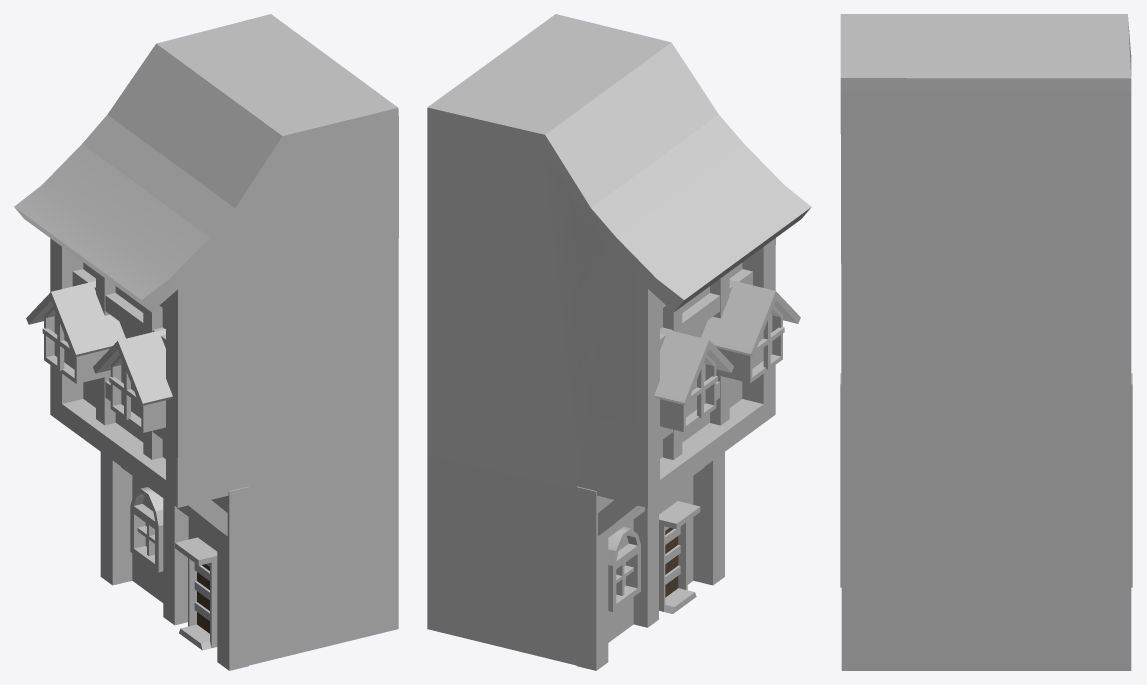
The model's file is townhouse2_combined.fbx.
The picture shows the model from 3 angles, left to right: view 1: azimuth 30°, elevation 25°; view 2: azimuth 150°, elevation 25°; view 3: azimuth 270°, elevation 25°; orthographic projection. The views are drawn at different scales.
Visible parts, largest first — view 1: standardHouse2; view 2: standardHouse2; view 3: standardHouse2.
Boxes of the visible parts, x1,y1,x2,y2 form: standardHouse2: (14, 14, 398, 670); standardHouse2: (427, 14, 811, 670); standardHouse2: (840, 14, 1132, 670).
Bounding box in the file's own units: 34.92 × 67.74 × 30.3.
